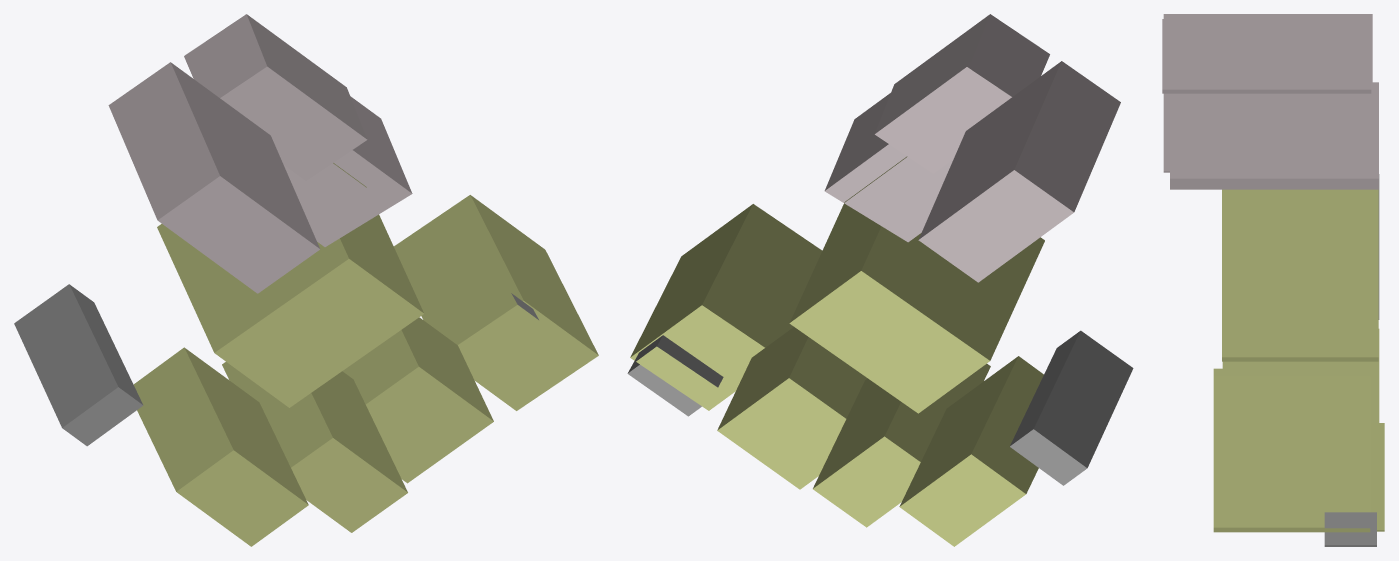
3 views of the same model, side by side, from view 1: azimuth 30°, elevation 25°; view 2: azimuth 150°, elevation 25°; view 3: azimuth 270°, elevation 25° (orthographic). The views are drawn at different scales.
Parts seen in each view (by area): view 1: 0_2_2_0_0_0_1_3_3; view 2: 0_2_2_0_0_0_1_3_3; view 3: 0_2_2_0_0_0_1_3_3.
Boxes of the visible parts, box(x1,y1,x2,y2) form: 0_2_2_0_0_0_1_3_3: box(14, 14, 598, 546); 0_2_2_0_0_0_1_3_3: box(627, 14, 1133, 546); 0_2_2_0_0_0_1_3_3: box(1162, 14, 1384, 546).
Size of the model in its own units: 34.92 by 31.1 by 12.77.
